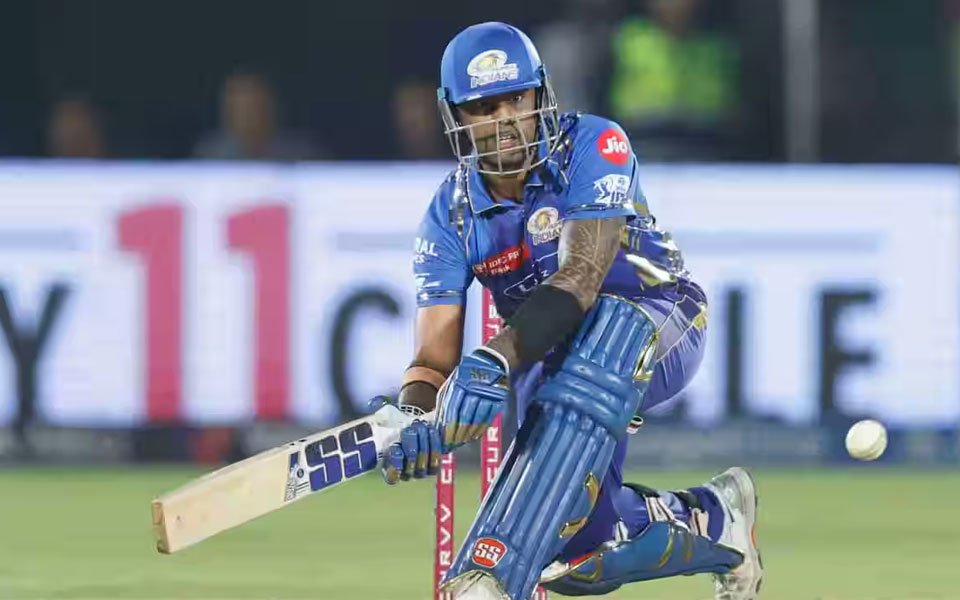Sweepshot: (92, 25, 911, 596)
